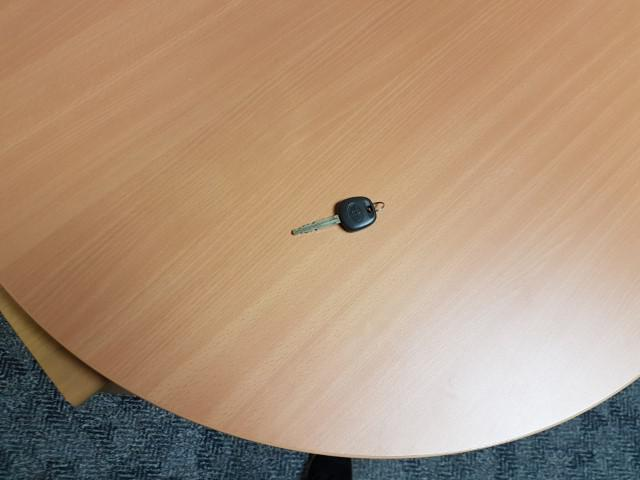key: (289, 197, 373, 238)
